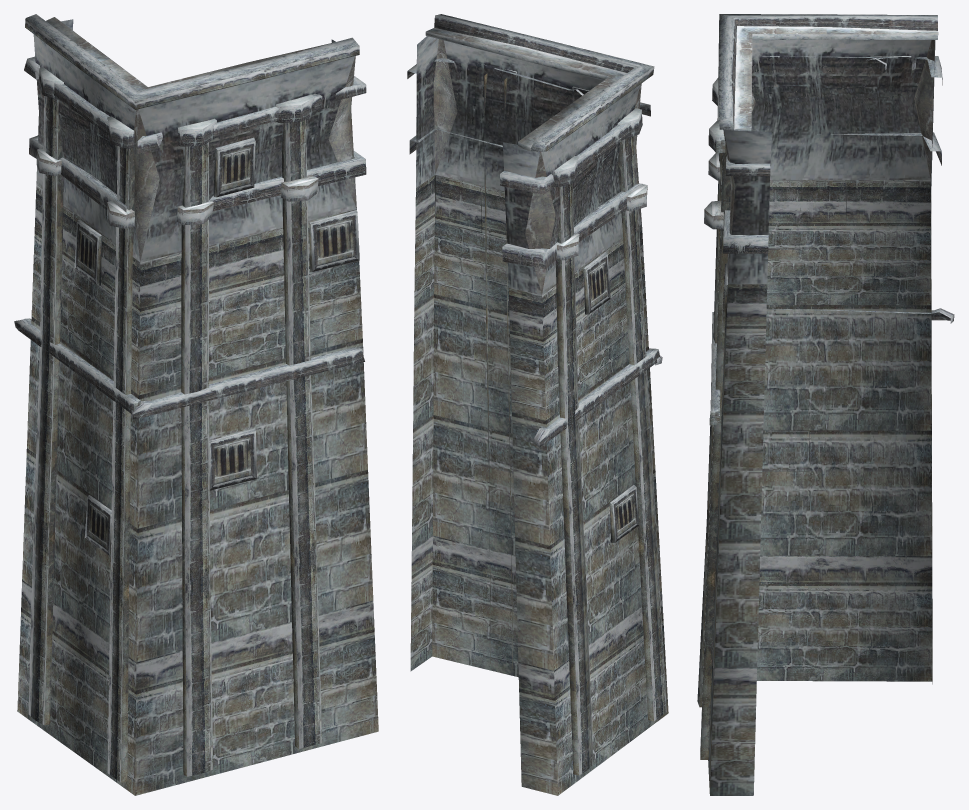
The model's file is S_Build_Snowland141.FBX.
The picture shows the model from 3 angles, left to right: view 1: azimuth 30°, elevation 25°; view 2: azimuth 150°, elevation 25°; view 3: azimuth 270°, elevation 25°; orthographic projection. The views are drawn at different scales.
Parts seen in each view (by area): view 1: S_Build_Snowland141; view 2: S_Build_Snowland141; view 3: S_Build_Snowland141.
Part boxes in pixels (x1,y1,x2,y2): S_Build_Snowland141: (14, 14, 378, 795); S_Build_Snowland141: (407, 14, 668, 795); S_Build_Snowland141: (697, 14, 954, 795).
Size of the model in its own units: 1219 by 1095 by 3172.
